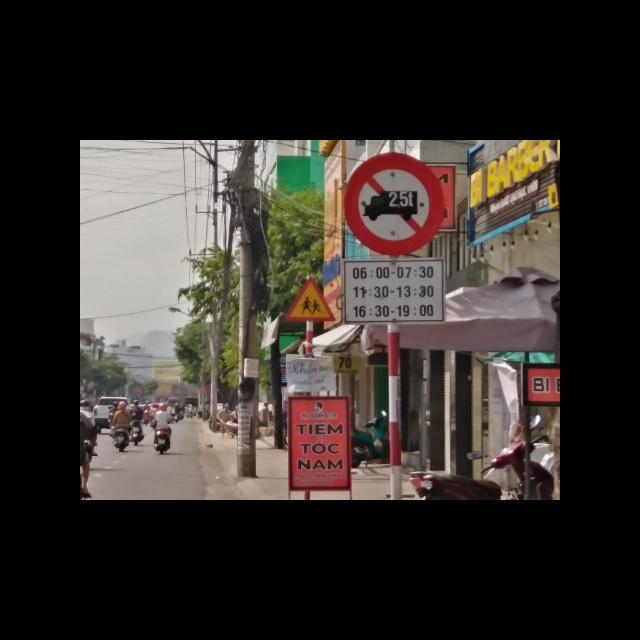Cấm xe tải: (337, 151, 445, 254)
Trẻ em ngang qua: (285, 277, 338, 322)
